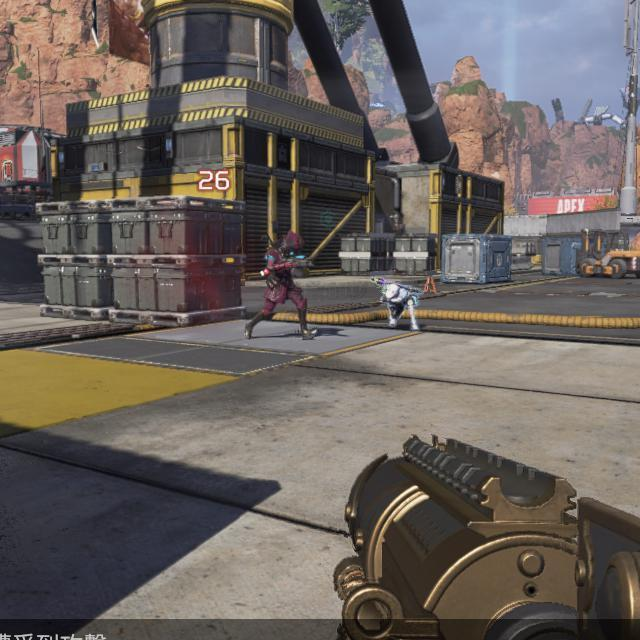avatar: (244, 230, 320, 339)
